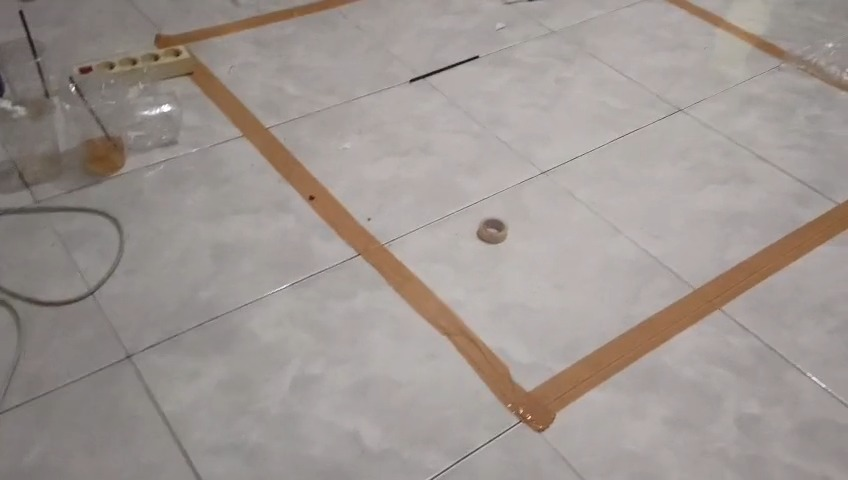floor marking: (191, 64, 847, 431), (674, 0, 847, 91), (155, 0, 358, 47)
